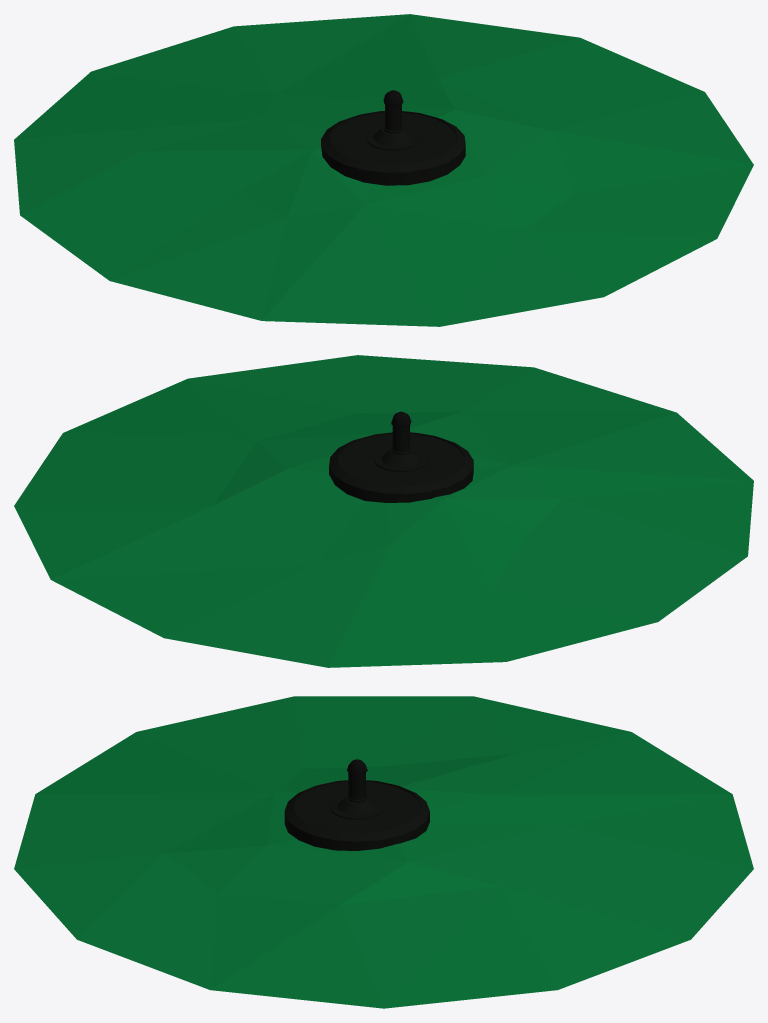
File: minigun_holder_upd.FBX
3 views of the same model, one above another, from view 1: azimuth 30°, elevation 25°; view 2: azimuth 150°, elevation 25°; view 3: azimuth 270°, elevation 25° (orthographic).
Visible parts, largest first — view 1: minigun_ground, minigun_holder; view 2: minigun_ground, minigun_holder; view 3: minigun_ground, minigun_holder.
Part boxes in pixels (x1,y1,x2,y2): minigun_ground: (14,14,753,326); minigun_holder: (321,90,465,185); minigun_ground: (14,355,753,667); minigun_holder: (329,411,473,502); minigun_ground: (14,696,753,1008); minigun_holder: (284,759,429,850).
Size of the model in its own units: 499 by 66.98 by 500.
